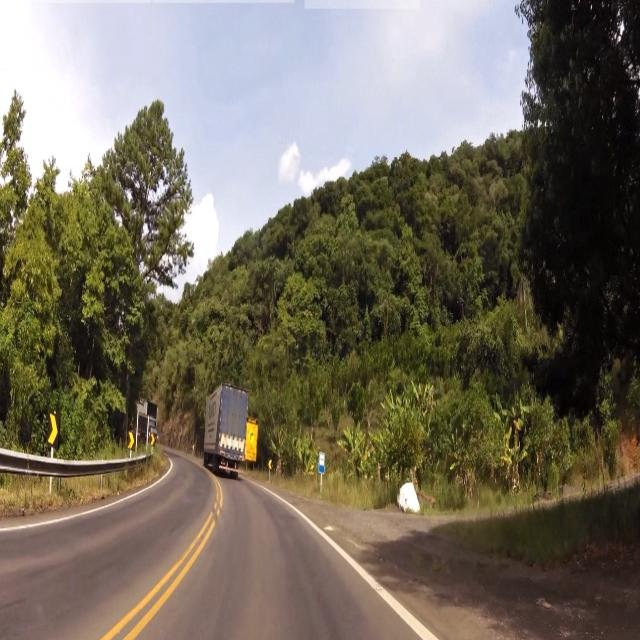S-14: (320, 449, 324, 478)
